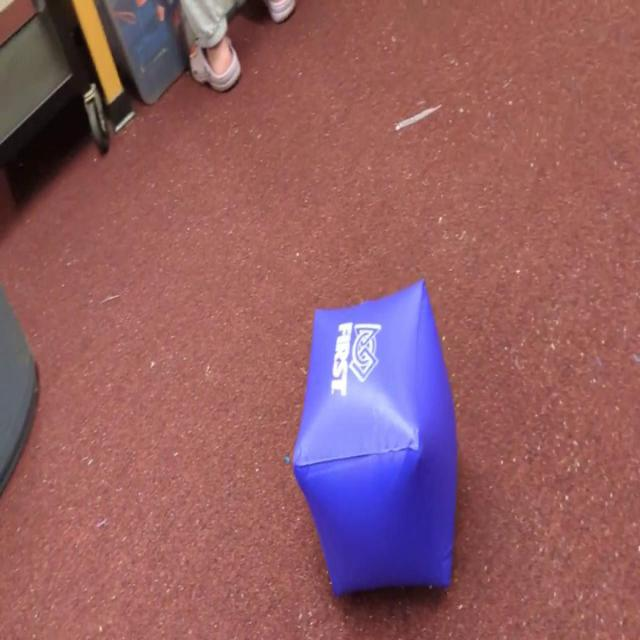frc_cube: (292, 276, 457, 602)
